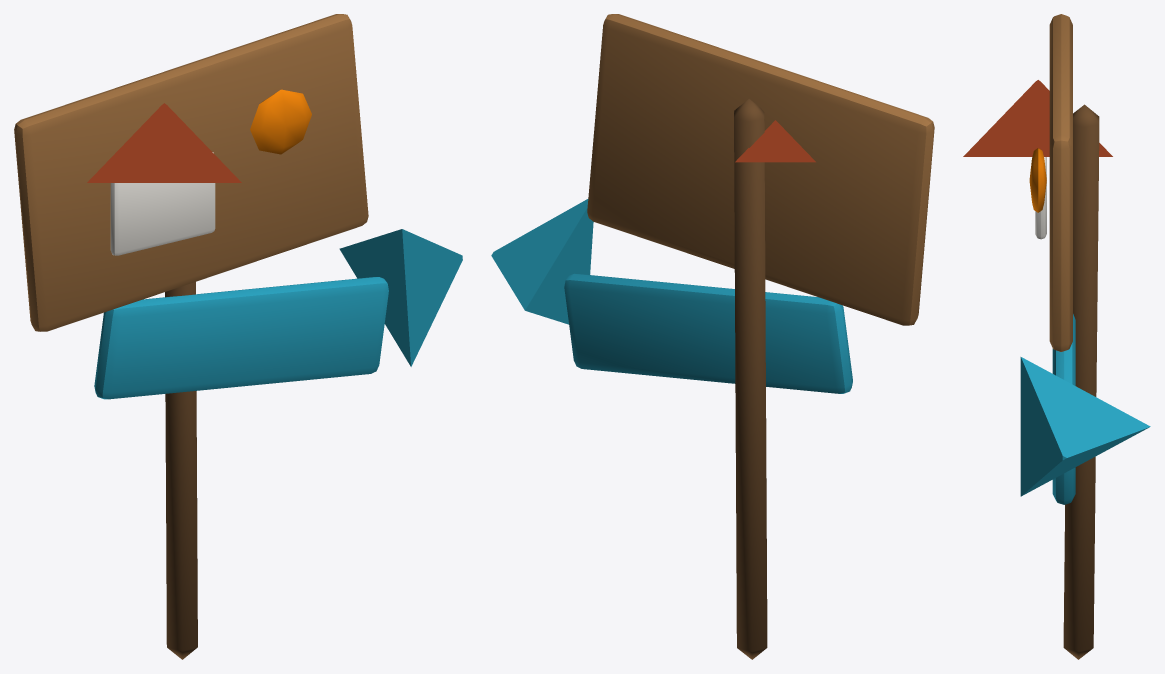
File: W5_Sign.fbx
3 renders of one model, left to right at view 1: azimuth 30°, elevation 25°; view 2: azimuth 150°, elevation 25°; view 3: azimuth 270°, elevation 25°, orthographic. The views are drawn at different scales.
Visible parts, largest first — view 1: W5_Sign; view 2: W5_Sign; view 3: W5_Sign.
Boxes of the visible parts, x1,y1,x2,y2 form: W5_Sign: (14,14,462,659); W5_Sign: (491,14,934,659); W5_Sign: (963,14,1150,659).
Bounding box in the file's own units: 1.73 × 2.27 × 0.6498.
